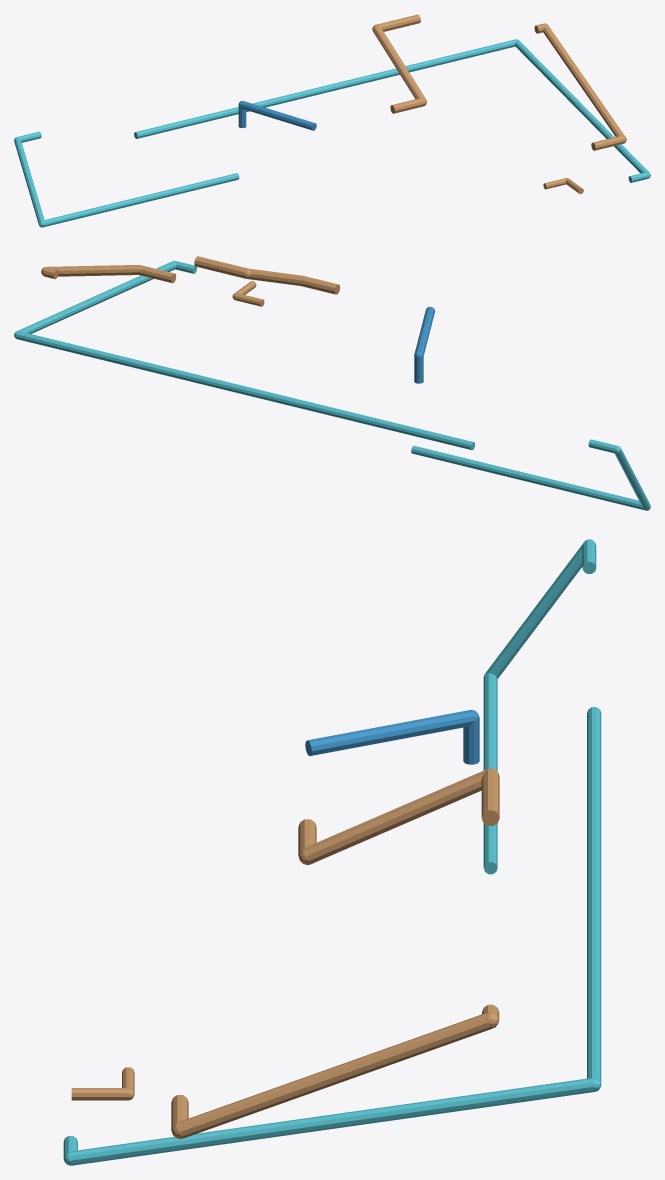
File: 20_L69_CopperRefrigerantPipelineNetwork.glb
3 renders of one model, top to bottom at view 1: azimuth 30°, elevation 25°; view 2: azimuth 150°, elevation 25°; view 3: azimuth 270°, elevation 25°, orthographic. The views are drawn at different scales.
Visible parts, largest first — view 1: CopperRefrigerantPipelineNetwork_Part_015, CopperRefrigerantPipelineNetwork_Part_020, CopperRefrigerantPipelineNetwork_Part_014, CopperRefrigerantPipelineNetwork_Part_006, CopperRefrigerantPipelineNetwork_Part_001, CopperRefrigerantPipelineNetwork_Part_024, CopperRefrigerantPipelineNetwork_Part_019, CopperRefrigerantPipelineNetwork_Part_002, CopperRefrigerantPipelineNetwork_Part_000; view 2: CopperRefrigerantPipelineNetwork_Part_015, CopperRefrigerantPipelineNetwork_Part_020, CopperRefrigerantPipelineNetwork_Part_014, CopperRefrigerantPipelineNetwork_Part_006, CopperRefrigerantPipelineNetwork_Part_001, CopperRefrigerantPipelineNetwork_Part_002, CopperRefrigerantPipelineNetwork_Part_019, CopperRefrigerantPipelineNetwork_Part_024, CopperRefrigerantPipelineNetwork_Part_000, CopperRefrigerantPipelineNetwork_Part_007; view 3: CopperRefrigerantPipelineNetwork_Part_014, CopperRefrigerantPipelineNetwork_Part_006, CopperRefrigerantPipelineNetwork_Part_015, CopperRefrigerantPipelineNetwork_Part_001, CopperRefrigerantPipelineNetwork_Part_024, CopperRefrigerantPipelineNetwork_Part_020, CopperRefrigerantPipelineNetwork_Part_019, CopperRefrigerantPipelineNetwork_Part_002.
Boxes of the visible parts, x1=… form: CopperRefrigerantPipelineNetwork_Part_015: x1=134, y1=39, x2=516, y2=138; CopperRefrigerantPipelineNetwork_Part_020: x1=43, y1=173, x2=239, y2=227; CopperRefrigerantPipelineNetwork_Part_014: x1=515, y1=39, x2=649, y2=173; CopperRefrigerantPipelineNetwork_Part_006: x1=543, y1=24, x2=625, y2=136; CopperRefrigerantPipelineNetwork_Part_001: x1=373, y1=26, x2=425, y2=99; CopperRefrigerantPipelineNetwork_Part_024: x1=240, y1=101, x2=316, y2=130; CopperRefrigerantPipelineNetwork_Part_019: x1=14, y1=140, x2=44, y2=224; CopperRefrigerantPipelineNetwork_Part_002: x1=376, y1=14, x2=420, y2=31; CopperRefrigerantPipelineNetwork_Part_000: x1=390, y1=98, x2=424, y2=113; CopperRefrigerantPipelineNetwork_Part_015: x1=16, y1=331, x2=475, y2=450; CopperRefrigerantPipelineNetwork_Part_020: x1=411, y1=445, x2=645, y2=510; CopperRefrigerantPipelineNetwork_Part_014: x1=17, y1=260, x2=176, y2=333; CopperRefrigerantPipelineNetwork_Part_006: x1=47, y1=265, x2=141, y2=276; CopperRefrigerantPipelineNetwork_Part_001: x1=245, y1=268, x2=304, y2=285; CopperRefrigerantPipelineNetwork_Part_002: x1=194, y1=256, x2=247, y2=278; CopperRefrigerantPipelineNetwork_Part_019: x1=614, y1=447, x2=650, y2=509; CopperRefrigerantPipelineNetwork_Part_024: x1=415, y1=306, x2=435, y2=355; CopperRefrigerantPipelineNetwork_Part_000: x1=301, y1=276, x2=340, y2=294; CopperRefrigerantPipelineNetwork_Part_007: x1=139, y1=265, x2=176, y2=283; CopperRefrigerantPipelineNetwork_Part_014: x1=69, y1=1078, x2=594, y2=1165; CopperRefrigerantPipelineNetwork_Part_006: x1=177, y1=1013, x2=492, y2=1138; CopperRefrigerantPipelineNetwork_Part_015: x1=587, y1=707, x2=601, y2=1083; CopperRefrigerantPipelineNetwork_Part_001: x1=303, y1=769, x2=486, y2=864; CopperRefrigerantPipelineNetwork_Part_024: x1=305, y1=710, x2=474, y2=756; CopperRefrigerantPipelineNetwork_Part_020: x1=483, y1=673, x2=497, y2=874; CopperRefrigerantPipelineNetwork_Part_019: x1=485, y1=543, x2=583, y2=678; CopperRefrigerantPipelineNetwork_Part_002: x1=481, y1=769, x2=499, y2=825.
Bounding box in the file's own units: 12.27 × 2.78 × 5.61.
